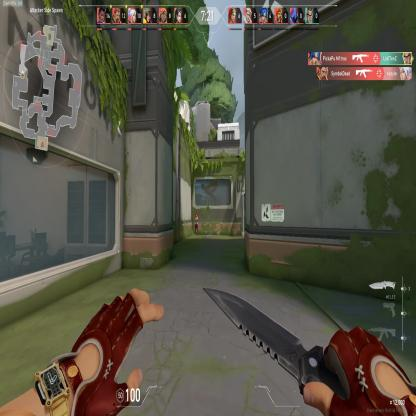enemy: (194, 211, 199, 236)
